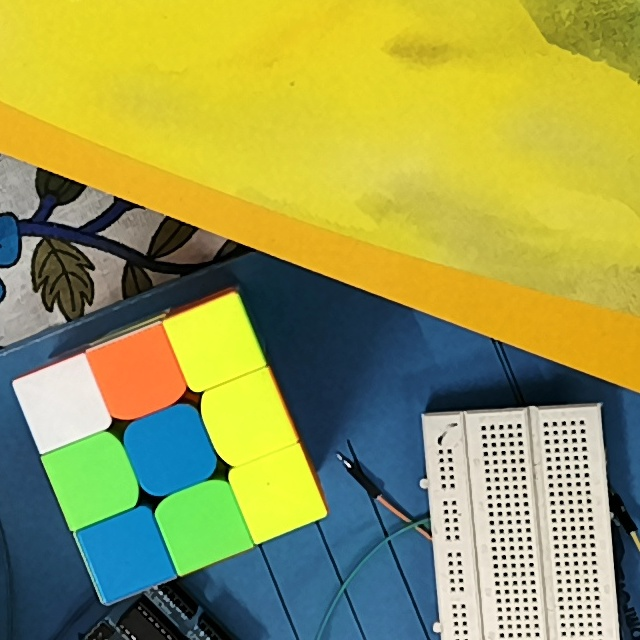tile: (139, 423, 202, 480), (63, 450, 123, 509), (106, 346, 167, 403), (170, 496, 232, 552), (34, 374, 91, 432), (185, 315, 243, 371), (218, 389, 274, 446), (96, 525, 155, 579), (252, 464, 305, 517)
